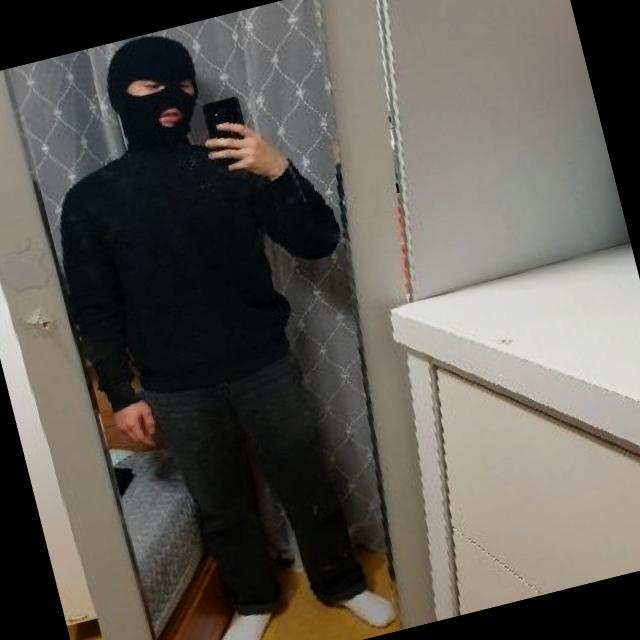denimpants: (140, 351, 377, 632)
mtm: (40, 103, 369, 407)
